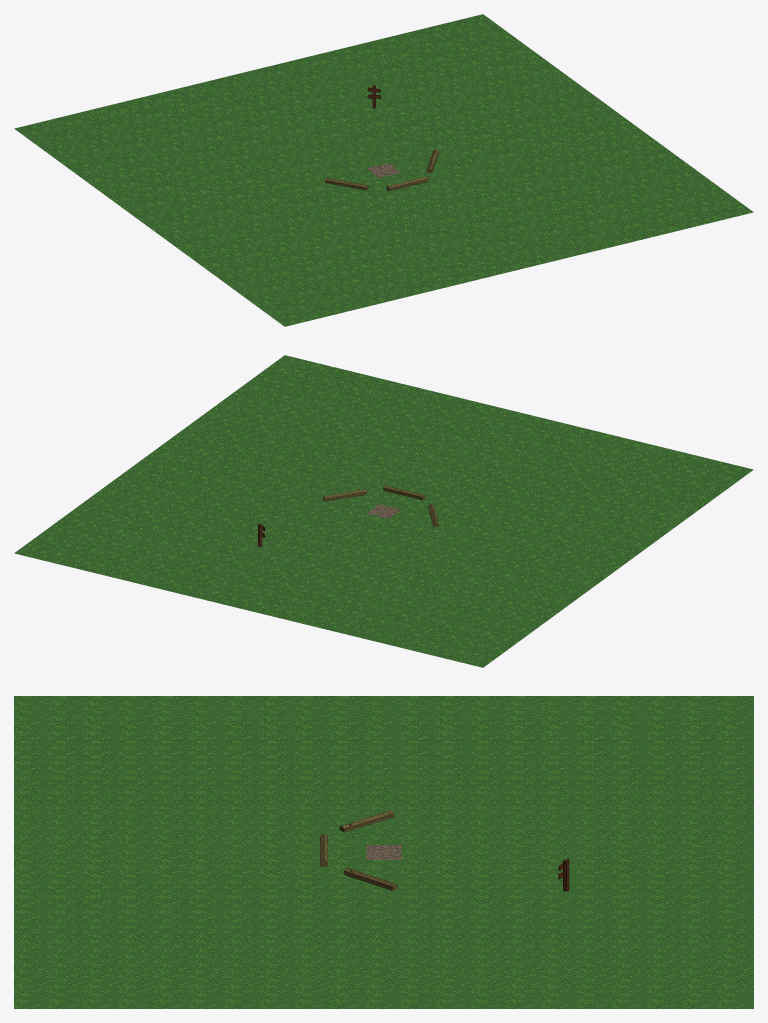
Rendered from Campement_Decor.obj.
The picture shows the model from 3 angles, top to bottom: view 1: azimuth 30°, elevation 25°; view 2: azimuth 150°, elevation 25°; view 3: azimuth 270°, elevation 25°; orthographic projection. The views are drawn at different scales.
Visible parts, largest first — view 1: Sol; view 2: Sol; view 3: Sol.
Boxes of the visible parts, <box> form: Sol: <box>14,14,753,326</box>; Sol: <box>14,355,753,667</box>; Sol: <box>14,696,753,1008</box>.
Size of the model in its own units: 21 by 1.01 by 21.
